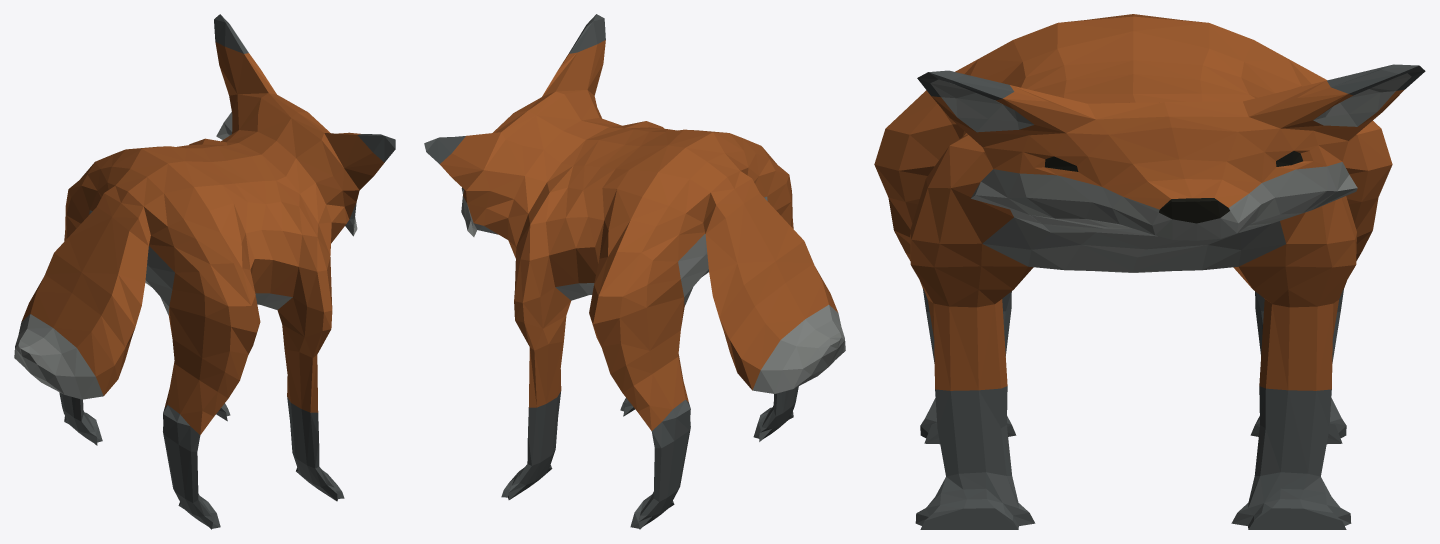
The model's file is fox.glb.
3 views of the same model, side by side, from view 1: azimuth 30°, elevation 25°; view 2: azimuth 150°, elevation 25°; view 3: azimuth 270°, elevation 25° (orthographic). The views are drawn at different scales.
Size of the model in its own units: 1 by 1 by 1.
